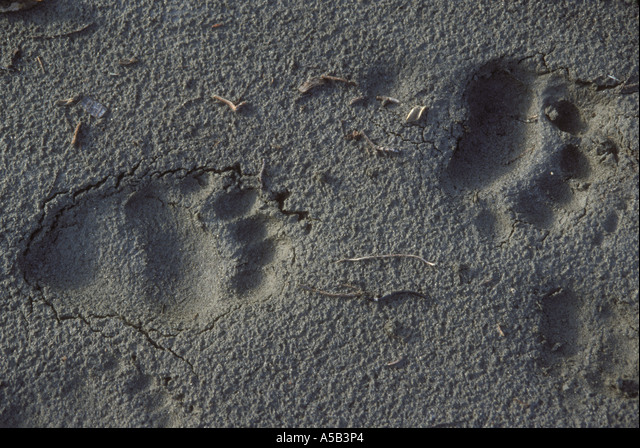bear: (19, 141, 323, 338), (445, 34, 620, 252)
